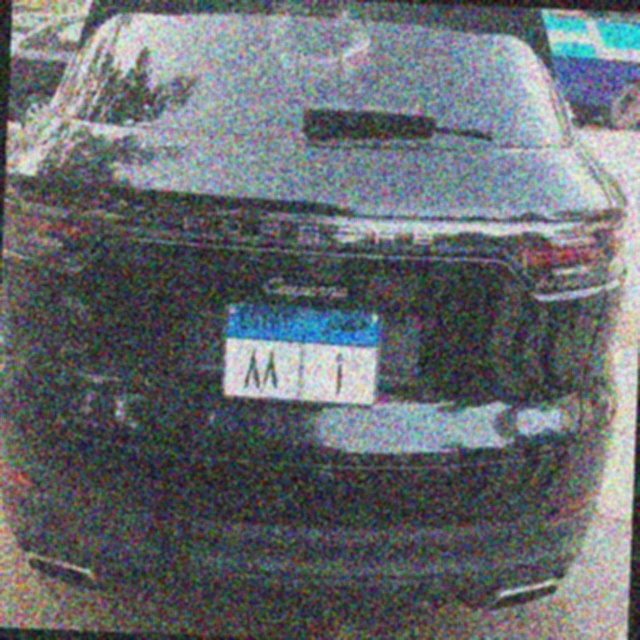License Plate: (216, 298, 385, 412)
